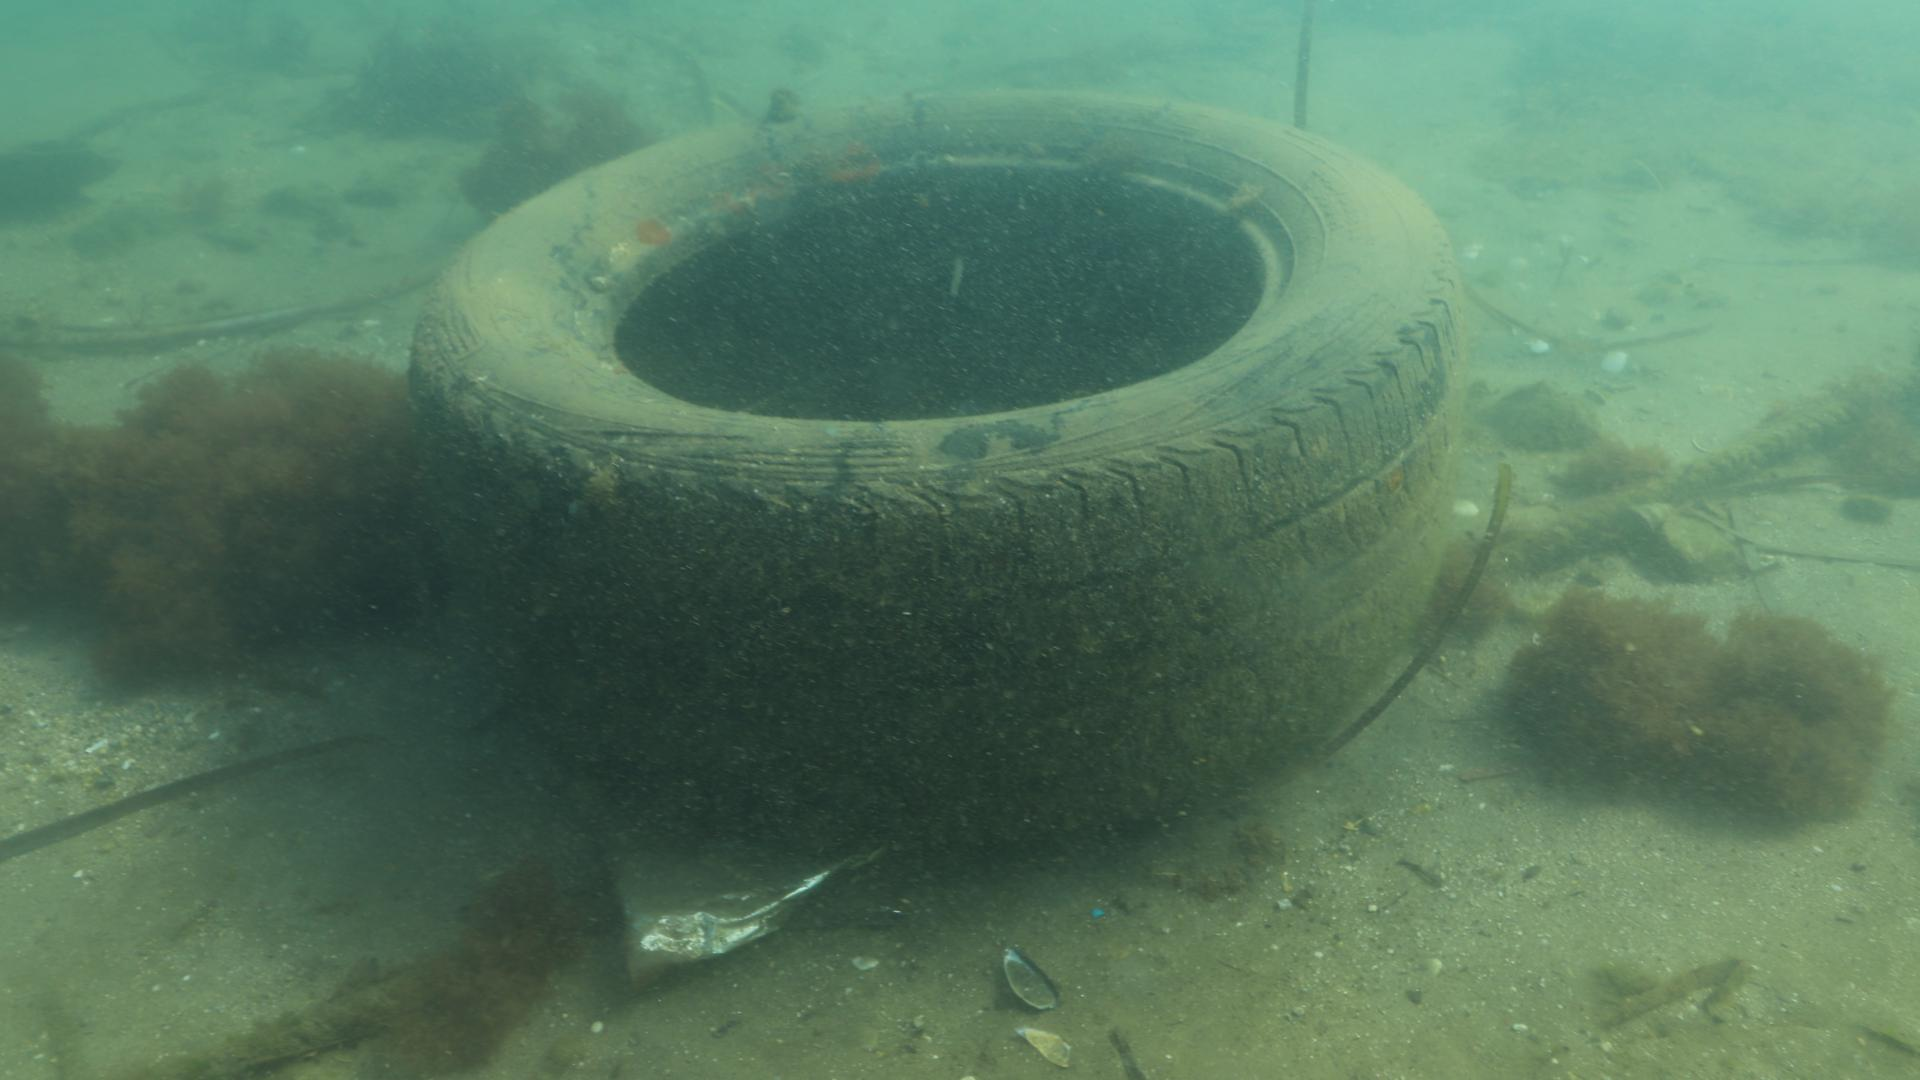rope: (1457, 363, 1905, 564)
tire: (407, 88, 1464, 852)
